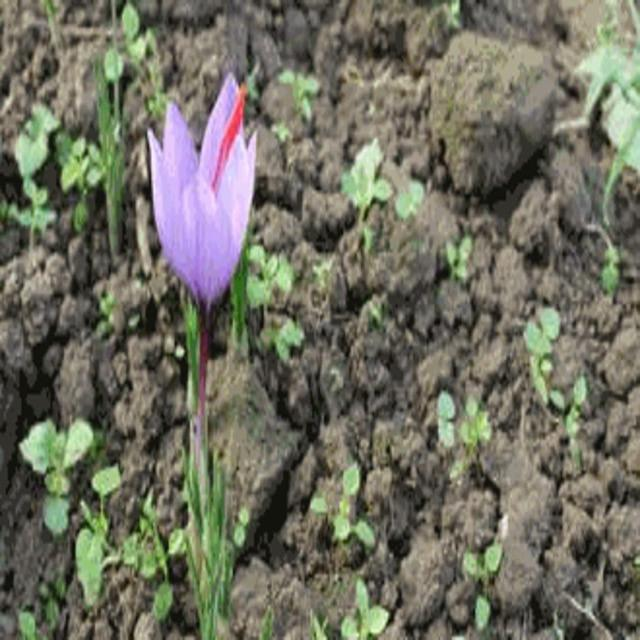saffron open: (148, 73, 256, 450)
